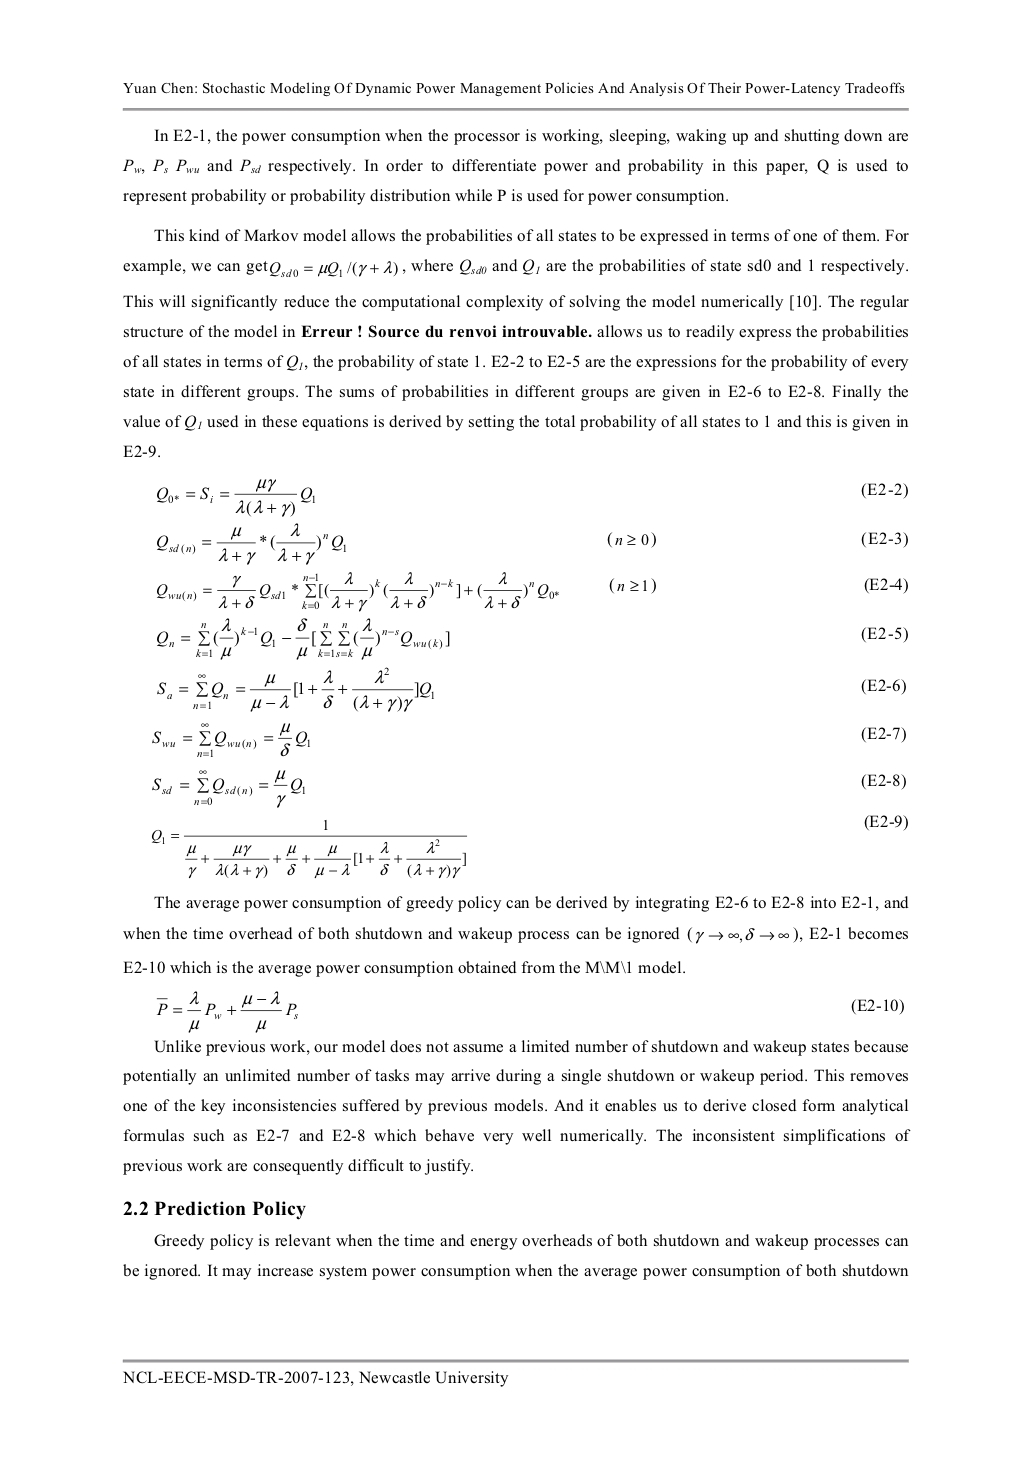figure: (122, 1357, 908, 1363), (122, 107, 908, 112)
formula: (157, 522, 907, 566), (156, 991, 903, 1033), (157, 571, 907, 612), (157, 479, 907, 516), (151, 819, 466, 879), (157, 665, 433, 712), (157, 617, 449, 660), (152, 769, 303, 808), (152, 722, 309, 757)
